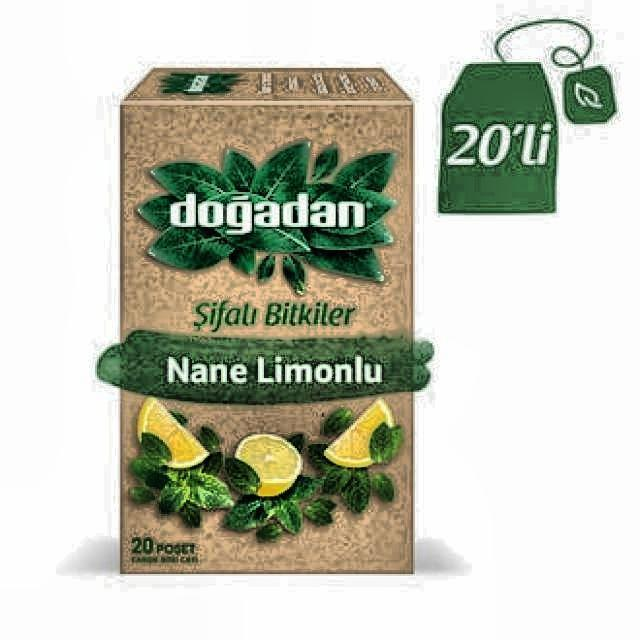cardboard: (95, 67, 434, 578)
